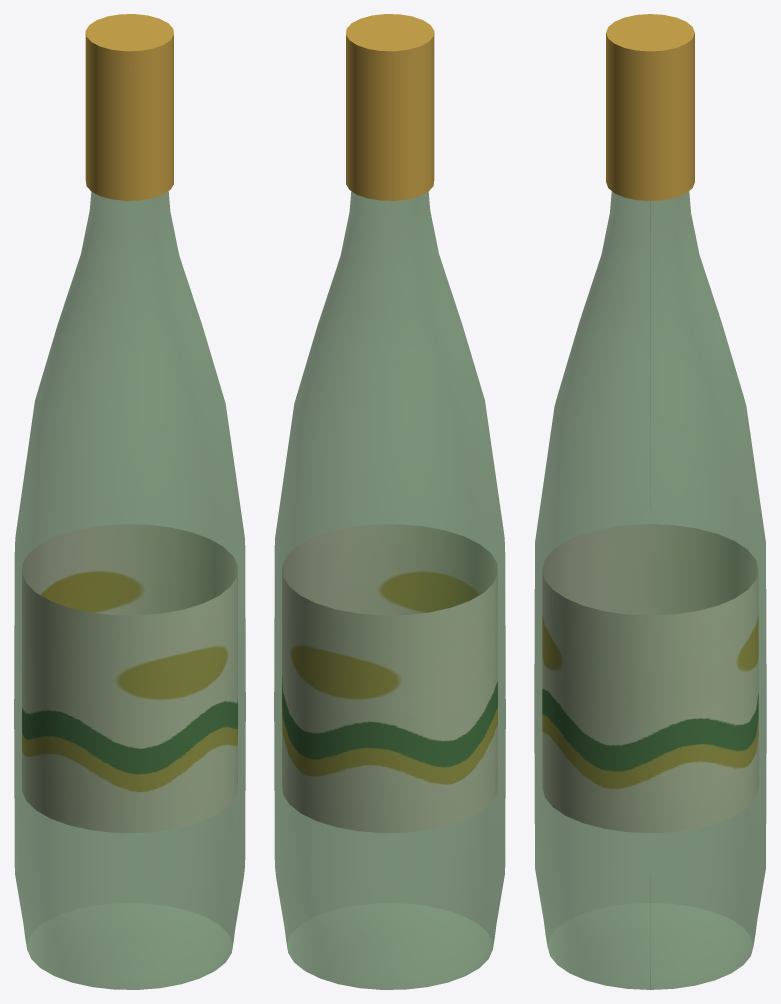
Rendered from bottle_wine_white_hock.glb.
3 renders of one model, left to right at view 1: azimuth 30°, elevation 25°; view 2: azimuth 150°, elevation 25°; view 3: azimuth 270°, elevation 25°, orthographic.
Visible parts, largest first — view 1: bottle_wine_white_hock; view 2: bottle_wine_white_hock; view 3: bottle_wine_white_hock.
Boxes of the visible parts, <box> form: bottle_wine_white_hock: <box>14,14,245,989</box>; bottle_wine_white_hock: <box>274,14,505,989</box>; bottle_wine_white_hock: <box>534,14,766,989</box>.
Bounding box in the file's own units: 0.0775 × 0.3379 × 0.0775.
Materials: 3 (1 with a texture image).
